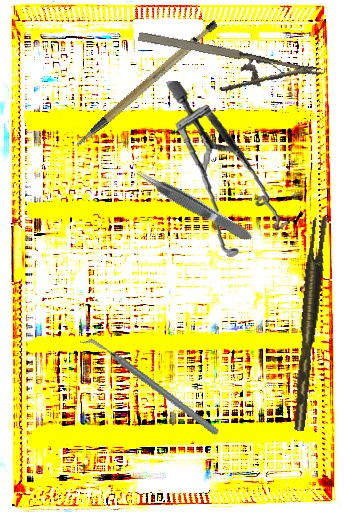Chopper: (79, 302, 221, 471)
Needle Holder: (130, 26, 326, 113)
Scalpel Handle: (57, 17, 232, 149)
Speculum: (150, 80, 302, 262)
Tissue Forceps: (283, 215, 334, 432), (130, 163, 255, 247)
